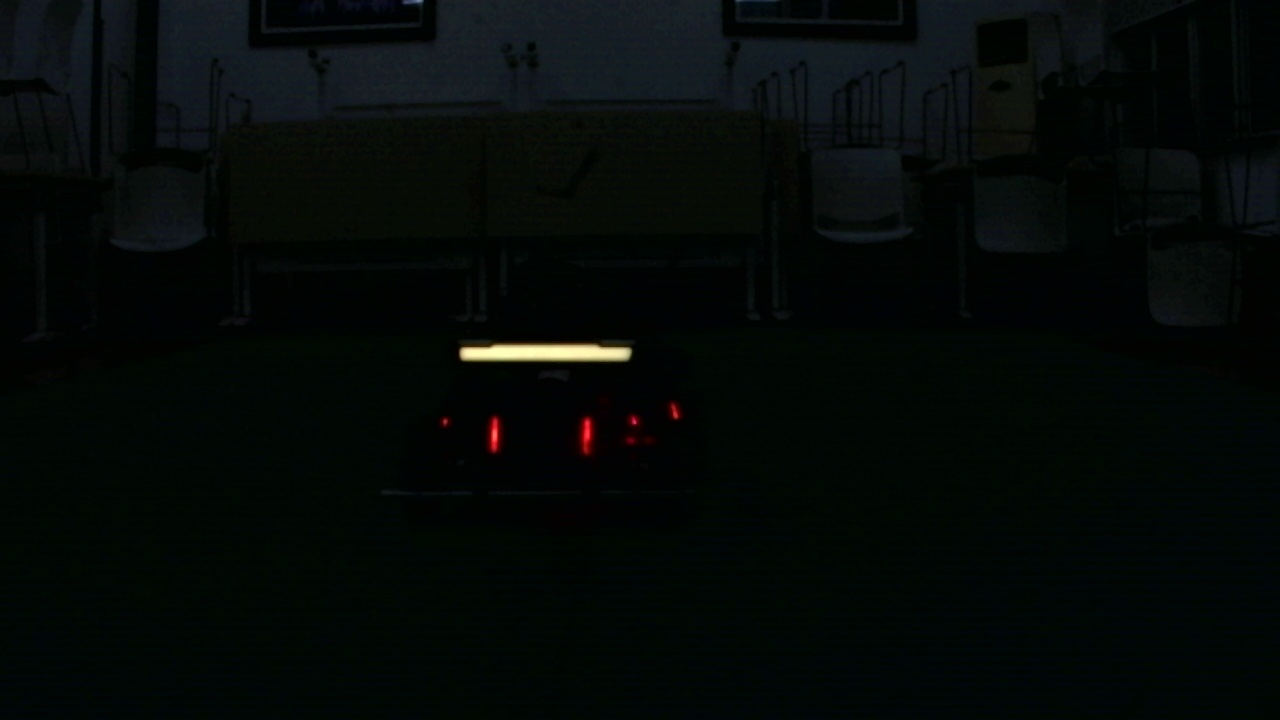lamp: (486, 412, 502, 453), (580, 411, 591, 455)
pair1: (488, 415, 594, 458)
